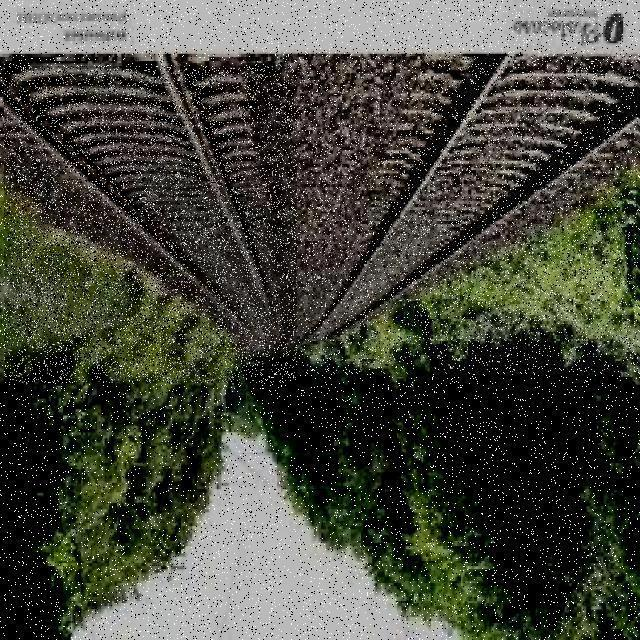rail: (280, 58, 640, 374), (6, 68, 298, 384)
